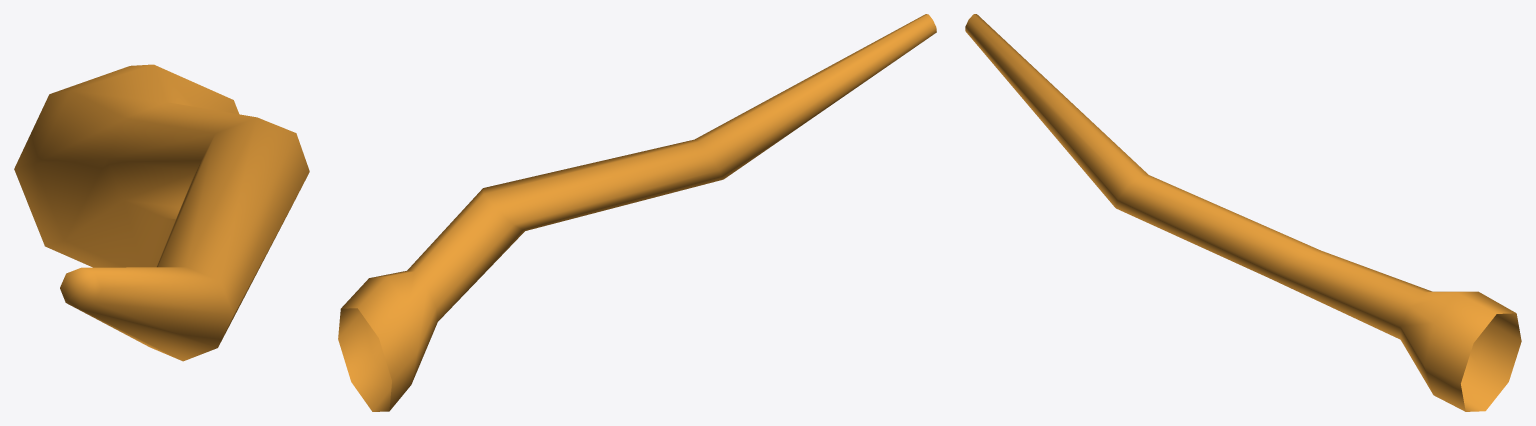
File: Branch 2.fbx
The picture shows the model from 3 angles, left to right: view 1: azimuth 30°, elevation 25°; view 2: azimuth 150°, elevation 25°; view 3: azimuth 270°, elevation 25°; orthographic projection. The views are drawn at different scales.
Visible parts, largest first — view 1: Cube.001; view 2: Cube.001; view 3: Cube.001.
Part boxes in pixels (box(x1,y1,x2,y2)): Cube.001: box(14, 64, 309, 361); Cube.001: box(338, 14, 936, 411); Cube.001: box(965, 14, 1521, 411).
Size of the model in its own units: 473 by 356 by 686.
